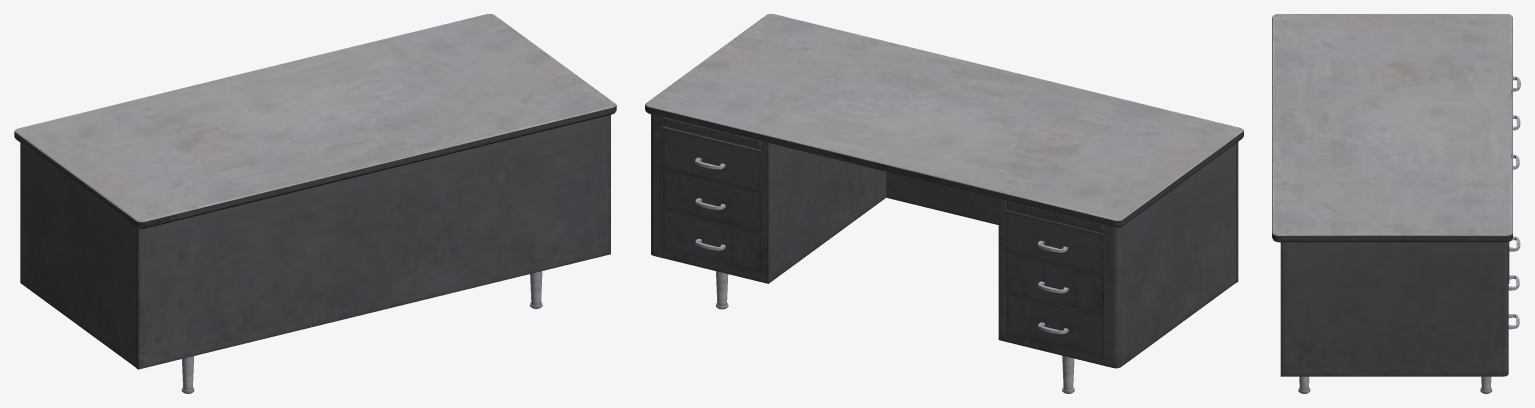
Rendered from office_desk.glb.
3 views of the same model, side by side, from view 1: azimuth 30°, elevation 25°; view 2: azimuth 150°, elevation 25°; view 3: azimuth 270°, elevation 25° (orthographic). The views are drawn at different scales.
Parts seen in each view (by area): view 1: office_desk; view 2: office_desk; view 3: office_desk.
Boxes of the visible parts, <box> form: office_desk: <box>14,14,616,393</box>; office_desk: <box>645,14,1243,393</box>; office_desk: <box>1272,14,1520,393</box>.
Size of the model in its own units: 2 by 0.7875 by 0.9472.
1 material, 1 textured.
